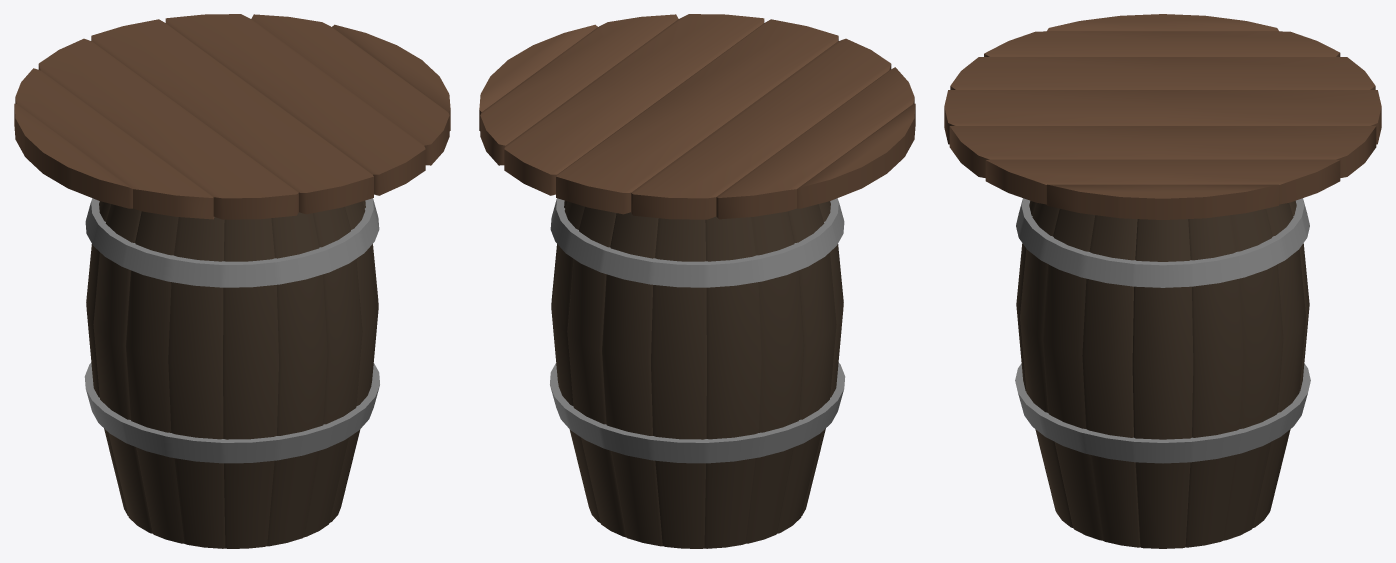
File: BarrelTable.fbx
3 views of the same model, side by side, from view 1: azimuth 30°, elevation 25°; view 2: azimuth 150°, elevation 25°; view 3: azimuth 270°, elevation 25° (orthographic).
Parts seen in each view (by area): view 1: Table; view 2: Table; view 3: Table.
Boxes of the visible parts, left/top/right/bottom form: Table: left=14, top=14, right=450, bottom=548; Table: left=479, top=14, right=915, bottom=548; Table: left=944, top=14, right=1381, bottom=548.
Bounding box in the file's own units: 100 × 100 × 100.
